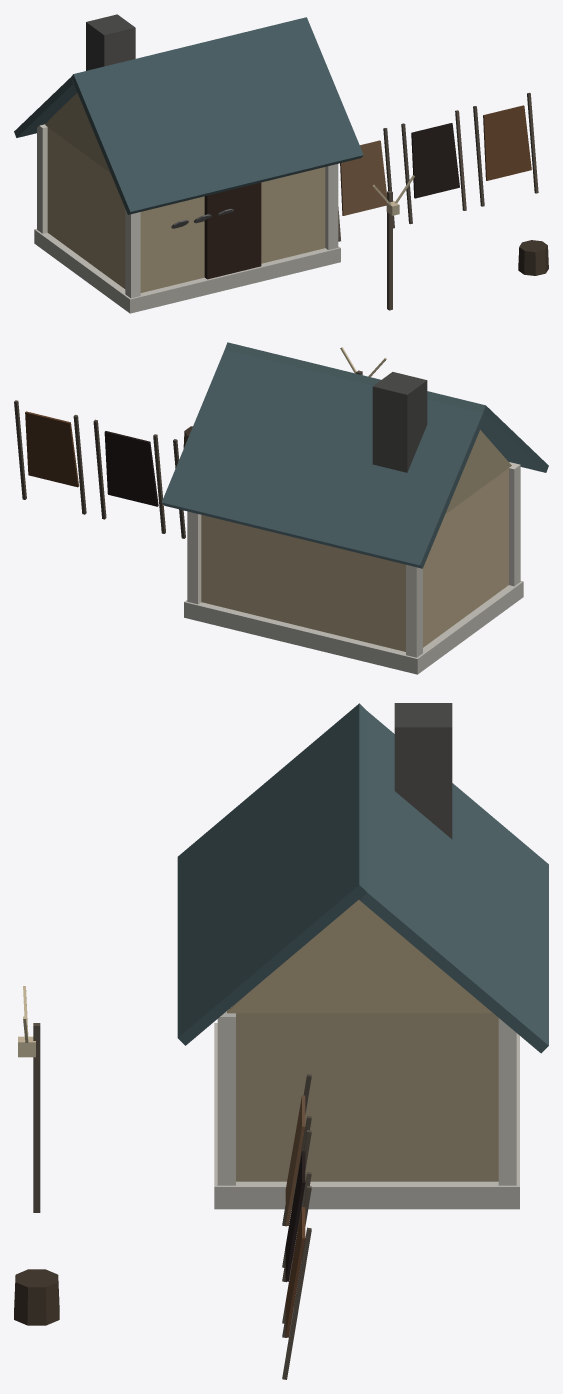
Rendered from walk_veiled_trapper.glb.
The picture shows the model from 3 angles, top to bottom: view 1: azimuth 30°, elevation 25°; view 2: azimuth 150°, elevation 25°; view 3: azimuth 270°, elevation 25°; orthographic projection. The views are drawn at different scales.
Visible parts, largest first — view 1: walk_veiled_trapper, walk_veiled_trapper_roof; view 2: walk_veiled_trapper, walk_veiled_trapper_roof; view 3: walk_veiled_trapper, walk_veiled_trapper_roof.
Part boxes in pixels (bbox=[...]): walk_veiled_trapper: bbox=[34, 92, 548, 313]; walk_veiled_trapper_roof: bbox=[14, 14, 363, 214]; walk_veiled_trapper: bbox=[14, 347, 523, 674]; walk_veiled_trapper_roof: bbox=[161, 342, 548, 568]; walk_veiled_trapper: bbox=[14, 899, 519, 1379]; walk_veiled_trapper_roof: bbox=[177, 703, 548, 1053].
Size of what is drawn, in the model's own units: 9.83 by 4.99 by 6.48.
Materials: 2 (2 with a texture image).
